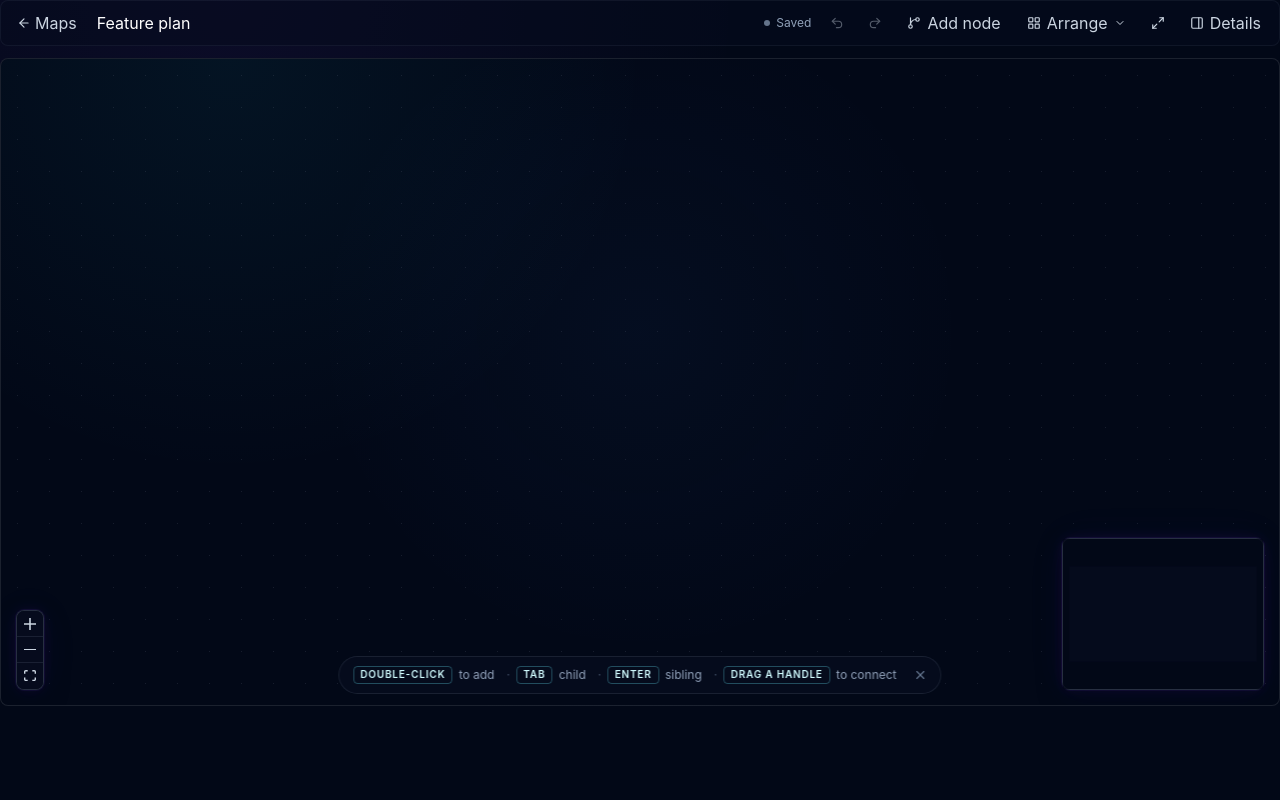
MapEditorPage › shows the hint strip for small maps until dismissed
Expected: the field named "Map title" is shown, [93,10,682,36]
Expected: the element with test id "map-hint-strip" is shown, [338,656,942,694]
Click the button named "Dismiss hints" at (921, 675), box [909,663,933,687]
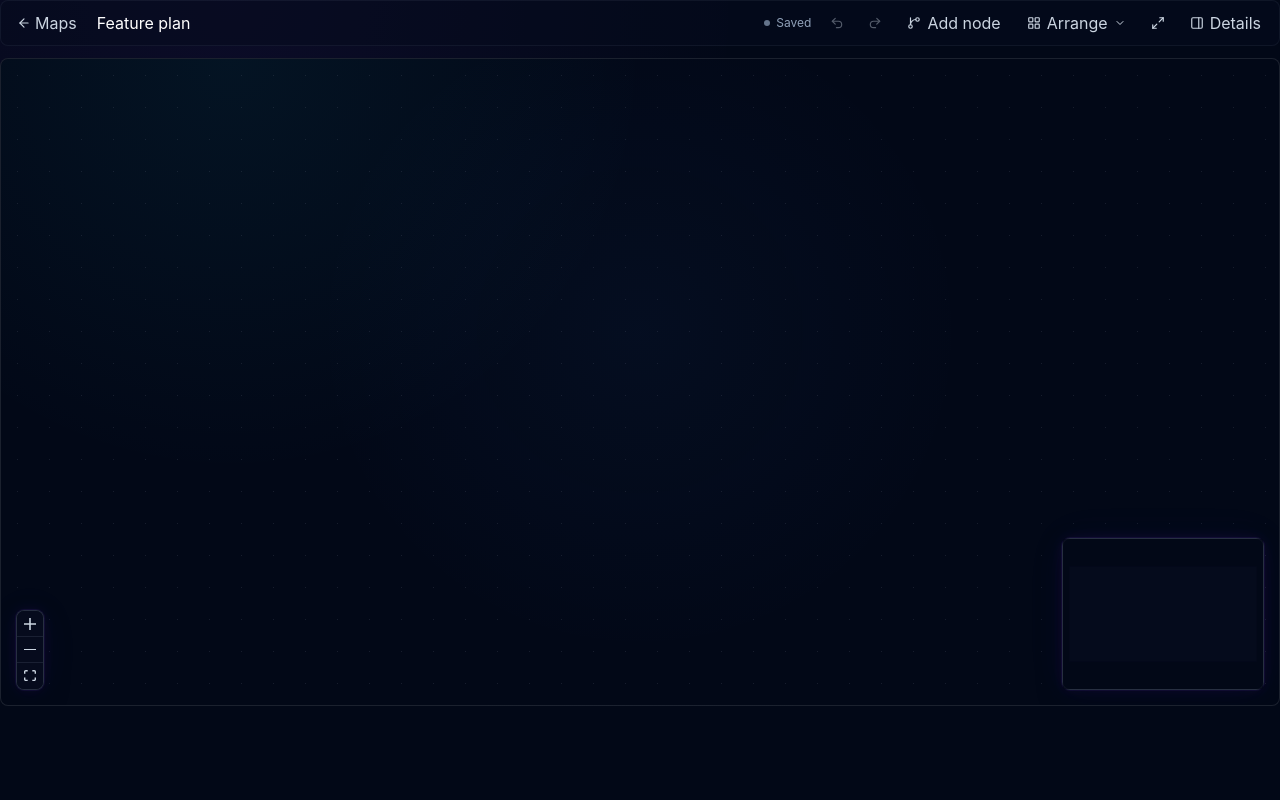
Expected: the element with test id "map-hint-strip" is gone
